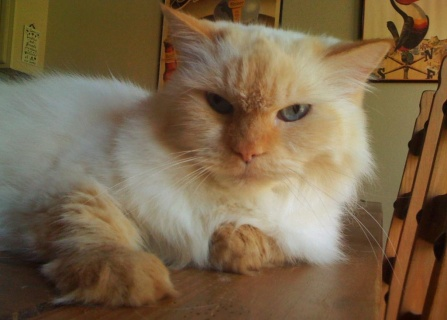Cat: (0, 1, 405, 306)
